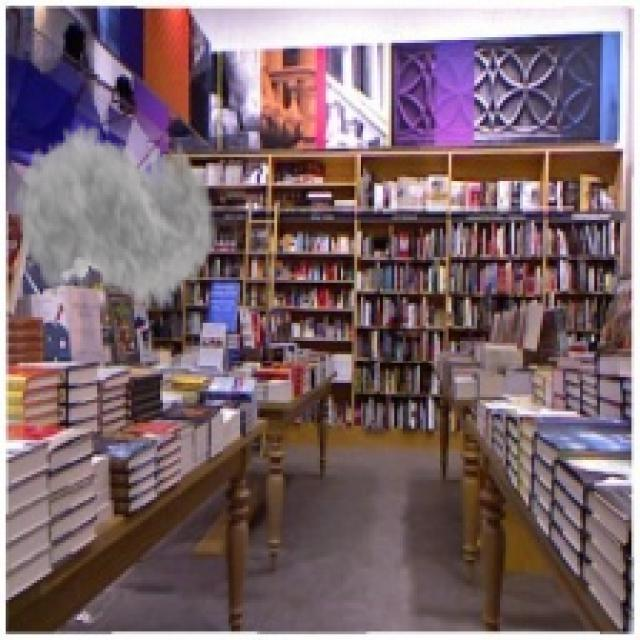Smoke: (14, 106, 217, 334)
